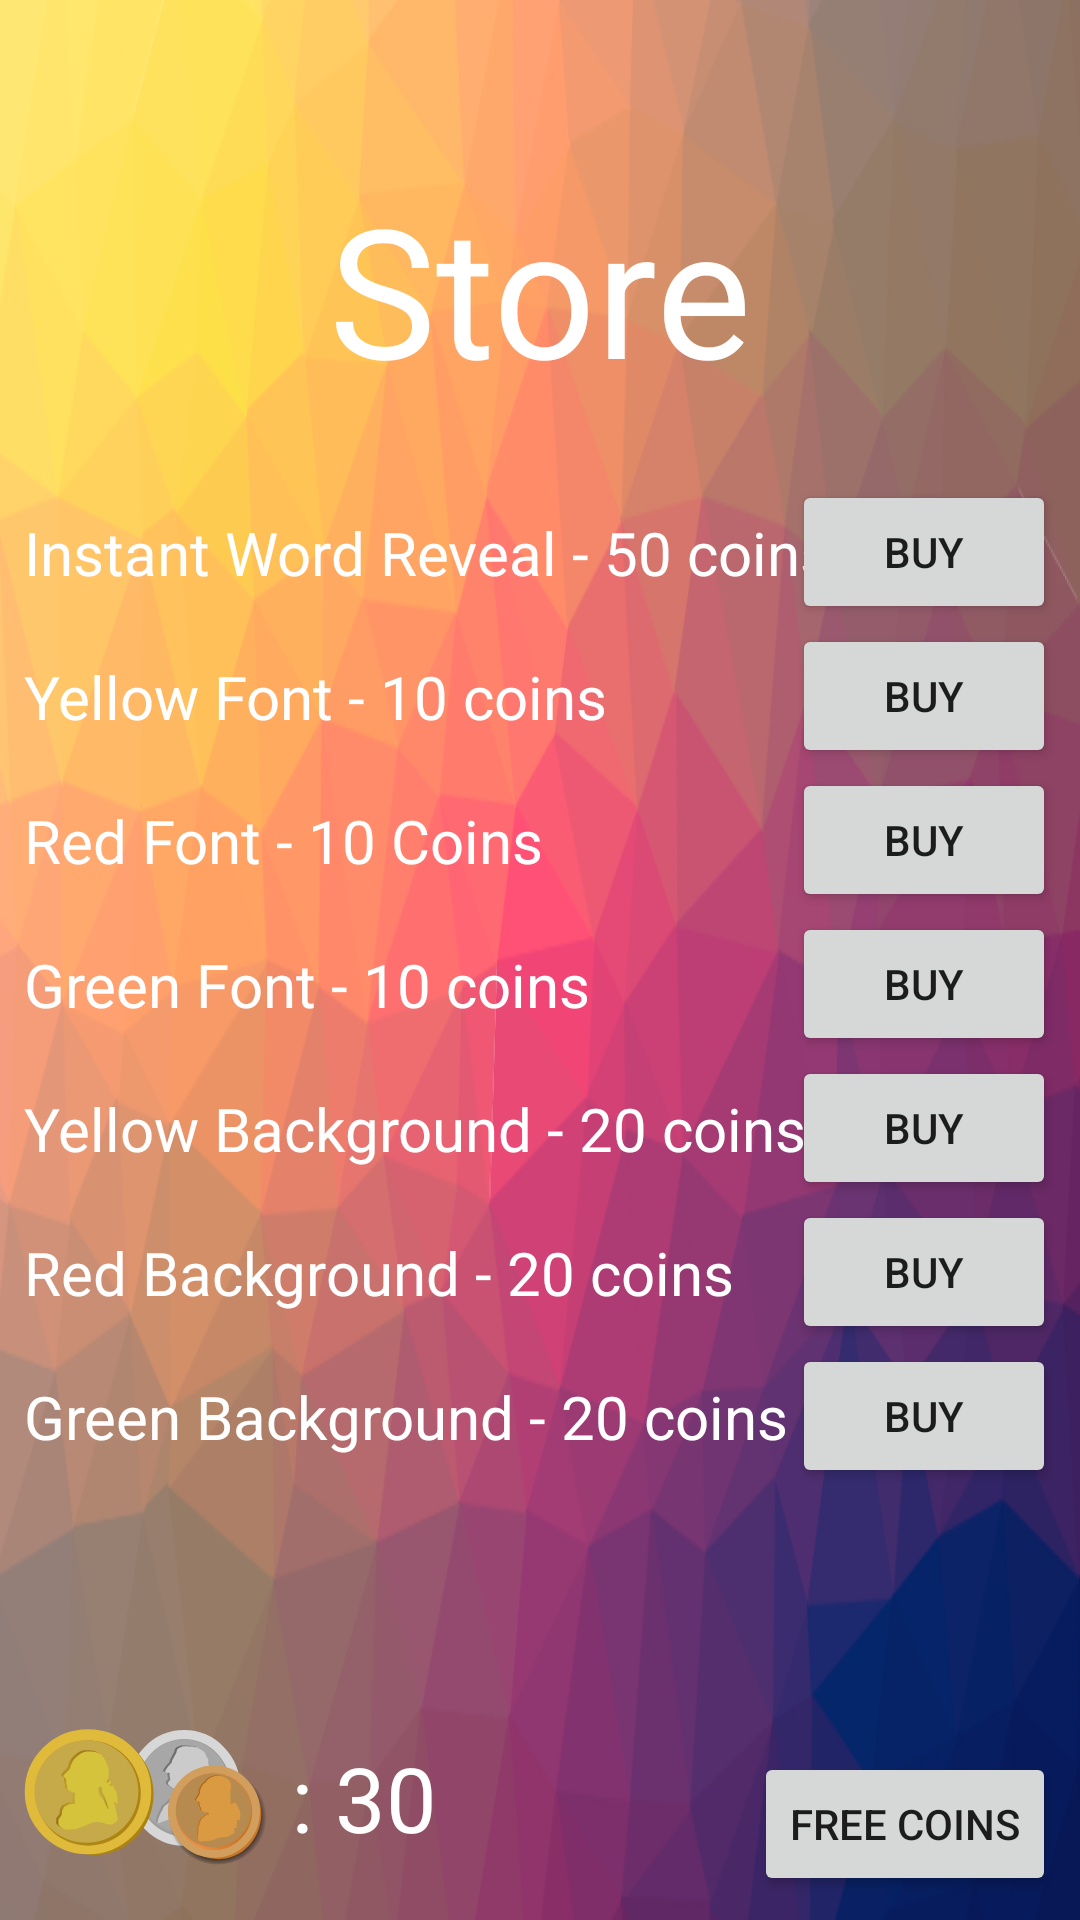

Icons on this 1080*1920 Android screen, each with the point to tap as (x=x, y=y):
coins: (x=144, y=1796)
